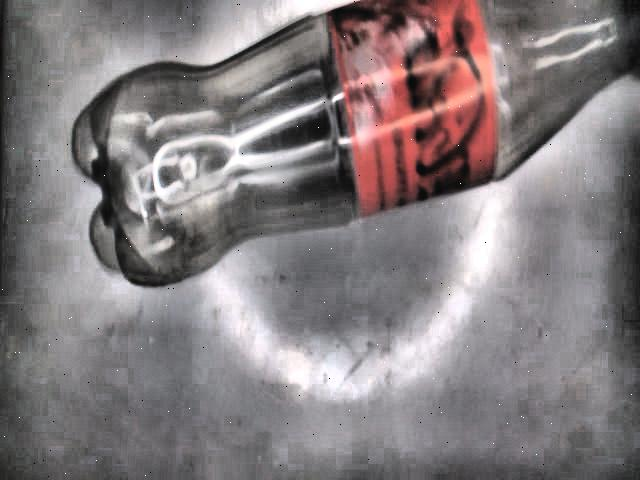Bottles: (67, 0, 640, 289)
